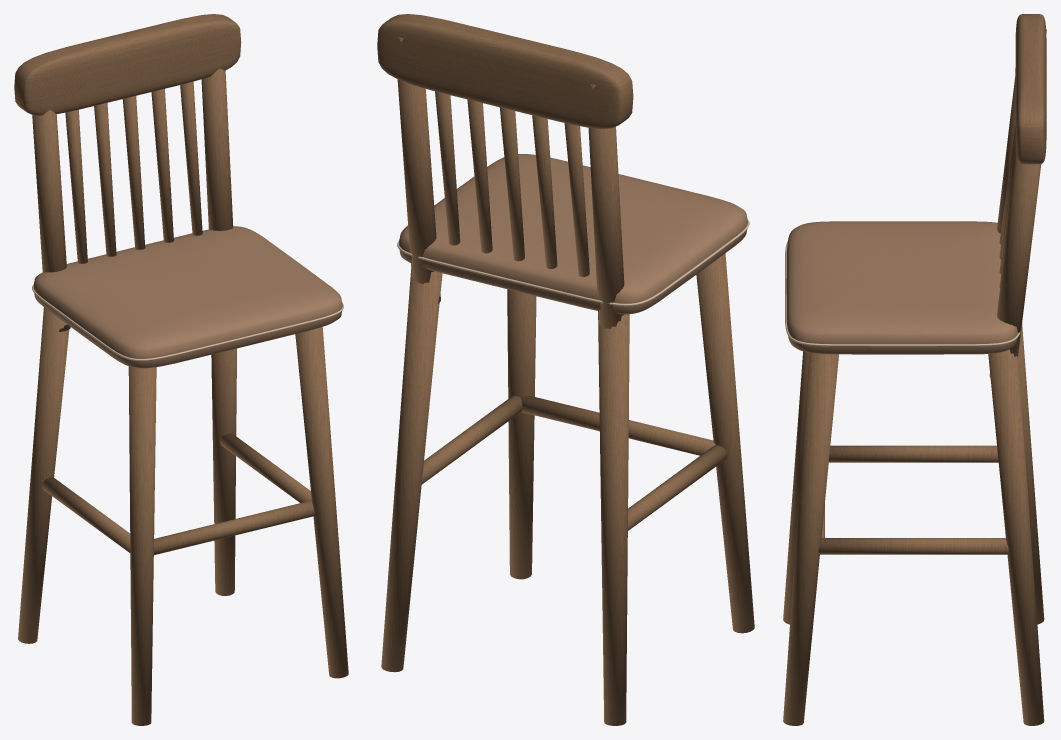
The model's file is traditional.stool.gltf.
3 renders of one model, left to right at view 1: azimuth 30°, elevation 25°; view 2: azimuth 150°, elevation 25°; view 3: azimuth 270°, elevation 25°, orthographic. The views are drawn at different scales.
Visible parts, largest first — view 1: traditional.stool.leg; view 2: traditional.stool.leg; view 3: traditional.stool.leg.
Part boxes in pixels (box(x1,y1,x2,y2)): traditional.stool.leg: box(14, 14, 348, 725); traditional.stool.leg: box(377, 14, 754, 725); traditional.stool.leg: box(783, 14, 1046, 725).
Bounding box in the file's own units: 0.4215 × 1.04 × 0.4054.
3 materials, 2 textured.
